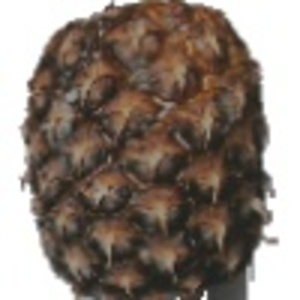abacaxi: (17, 2, 283, 296)
